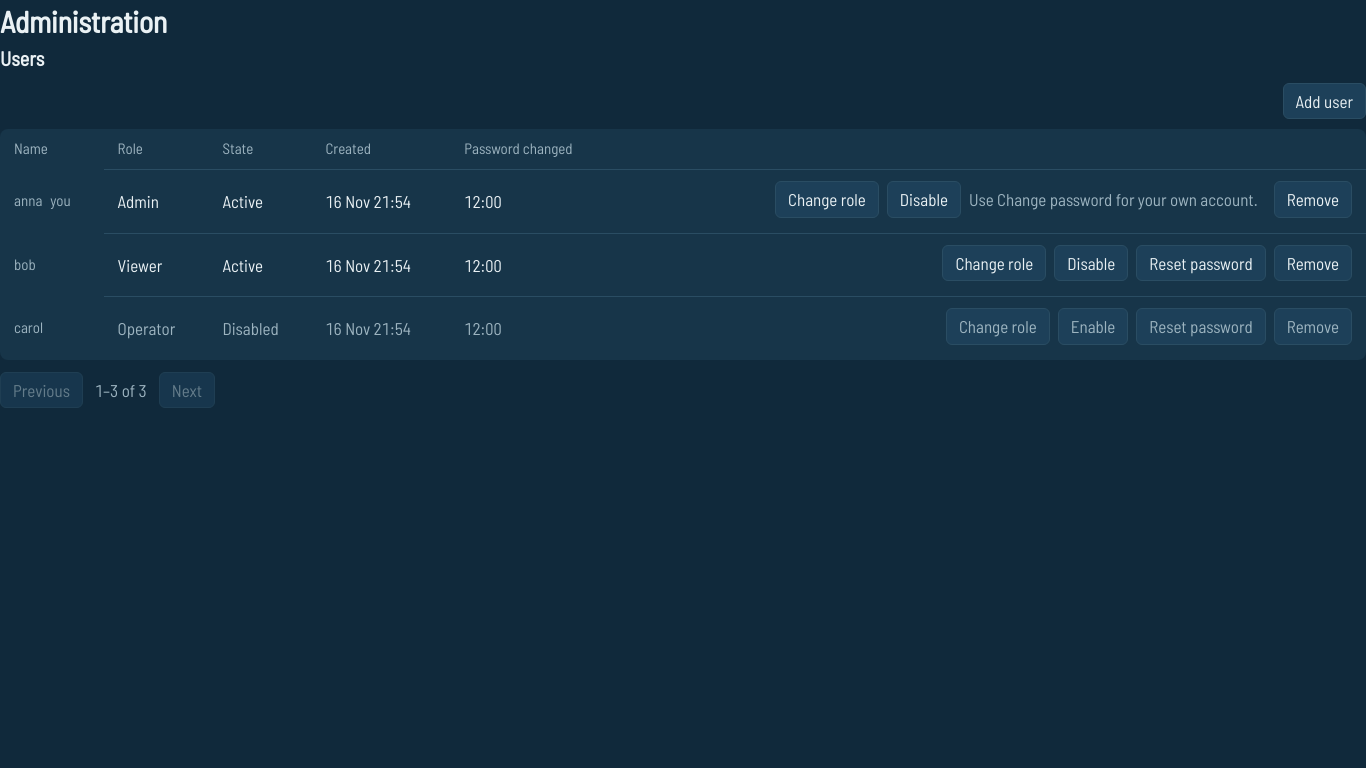
Test: AdministrationPage › creates a user with a generated password, shows it once and reloads the list
Click the button "Add user": click(1324, 101) [1283,82,1365,119]
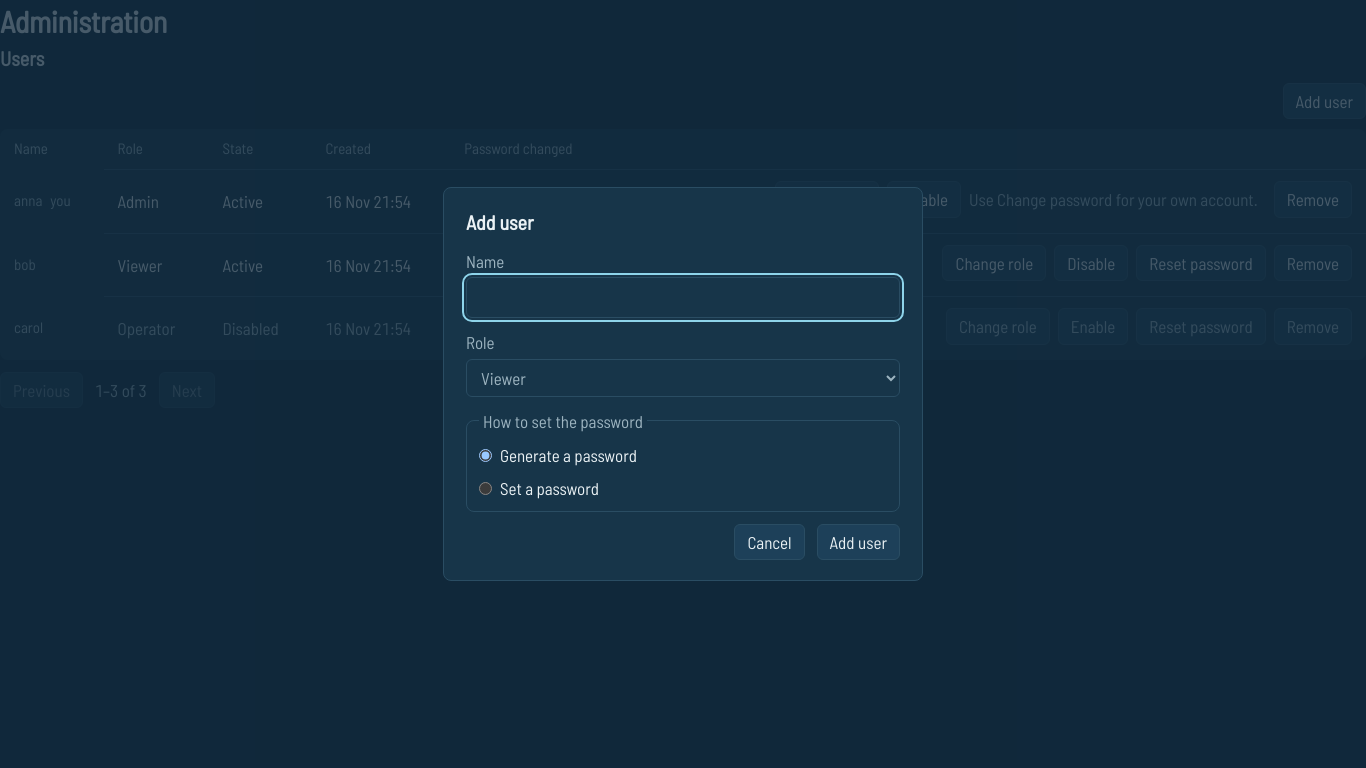
Expected: the dropdown labelled "Role" shows "Viewer", [466,359,900,397]
Expected: the radio button labelled "Generate a password" is checked, [479,449,492,462]
In the field labelled "Name": (683, 298) [466,277,900,318], type "dora"
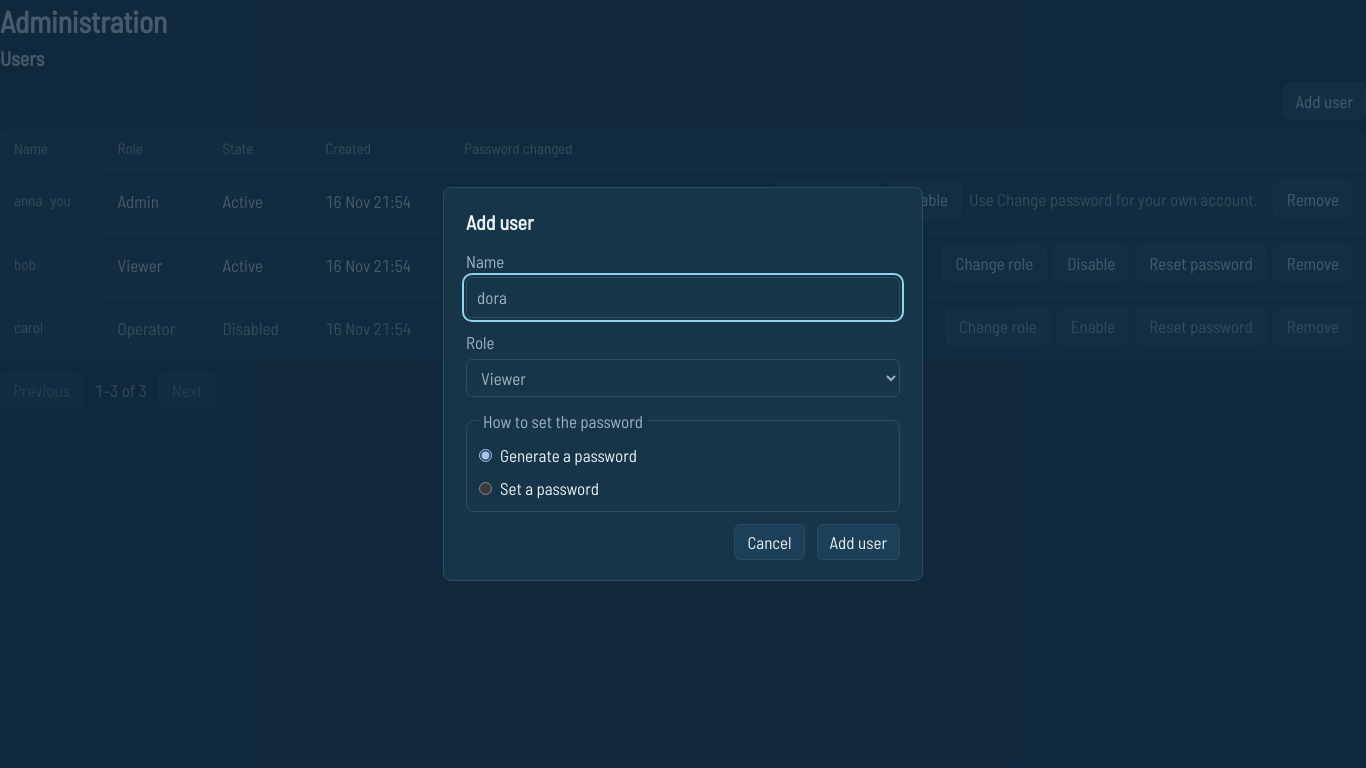
Select "Operator" in the dropdown labelled "Role": (683, 378) [466,359,900,397]
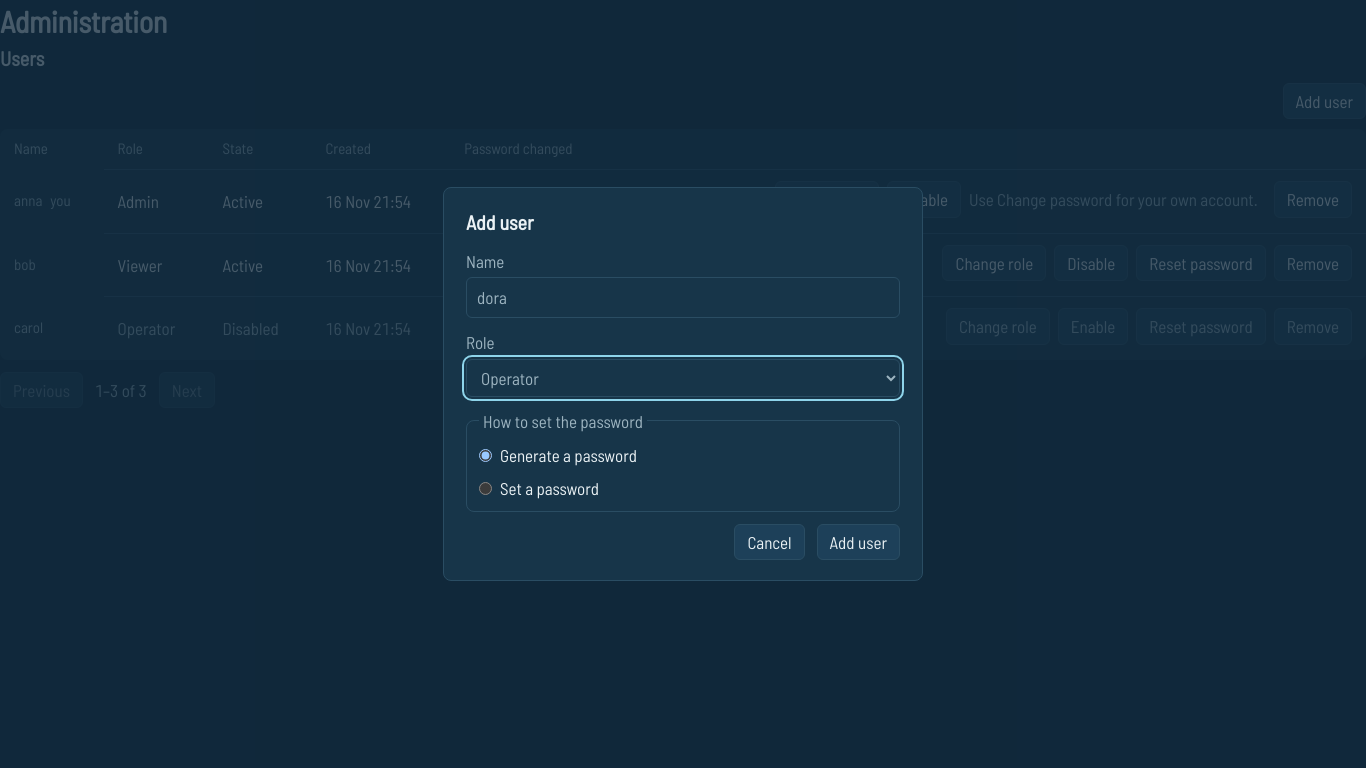
Click the button "Add user": click(858, 542) [817,524,900,560]
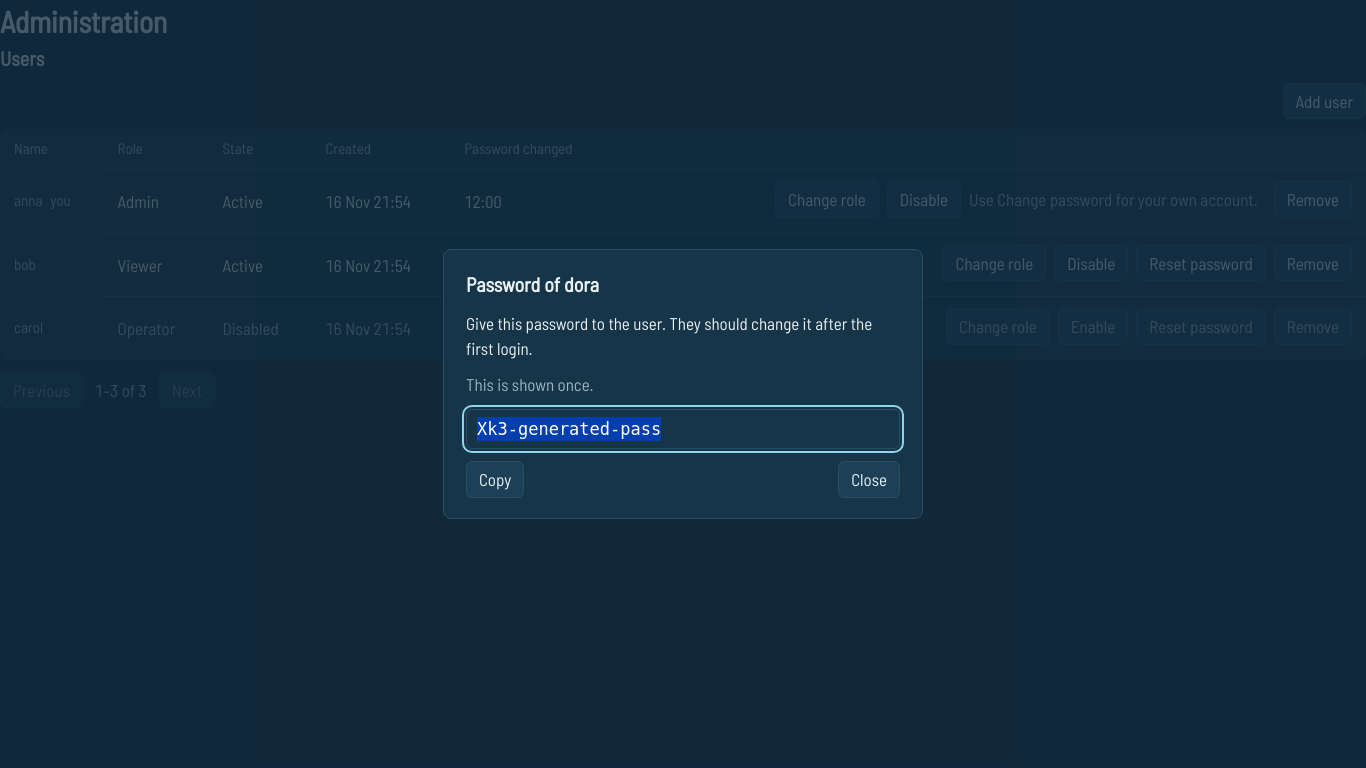
Expected: the field holds "Xk3-generated-pass", [466,409,900,449]
Expected: the text "Give this password to the user. They should change it after the first login." is shown, [466,311,900,360]
Click the button "Close": click(869, 480) [838,462,900,498]
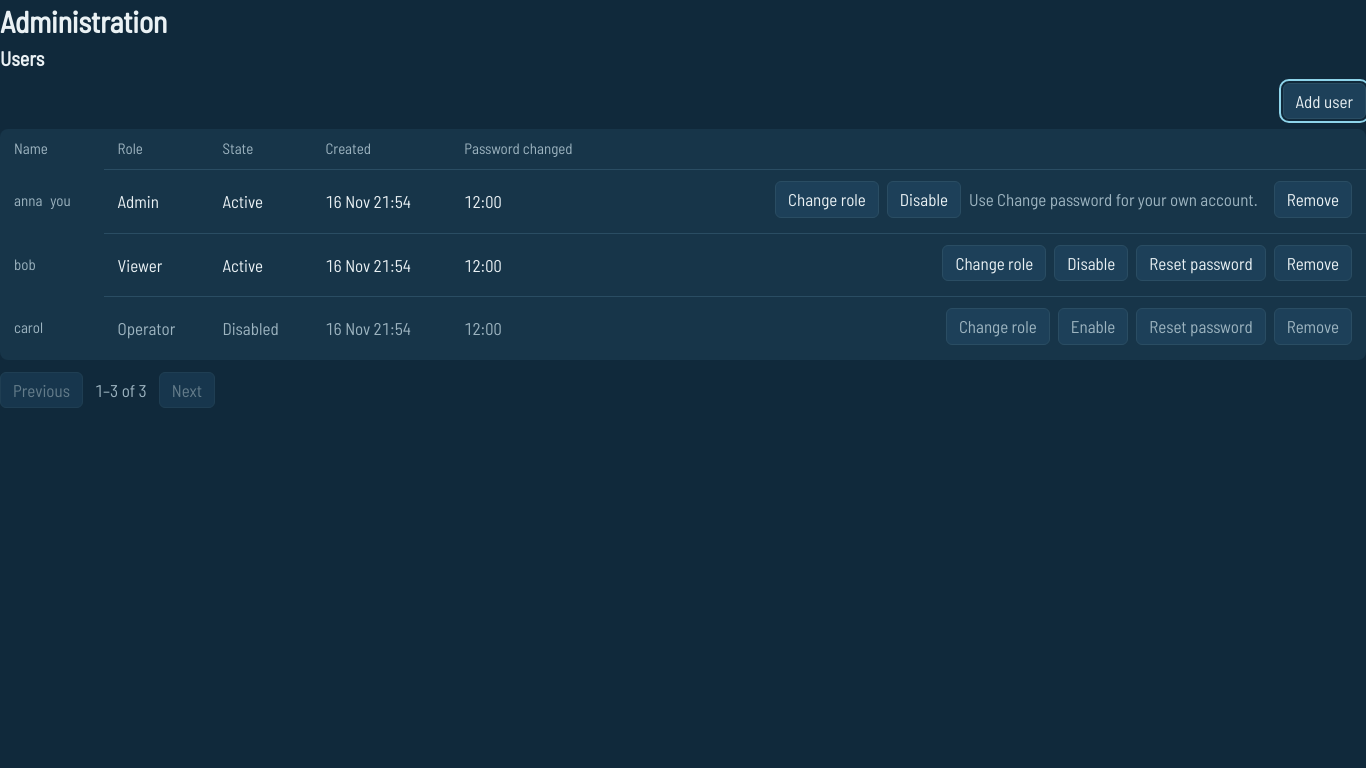
Expected: the text "Xk3-generated-pass" is not shown
Expected: the dialog is gone
